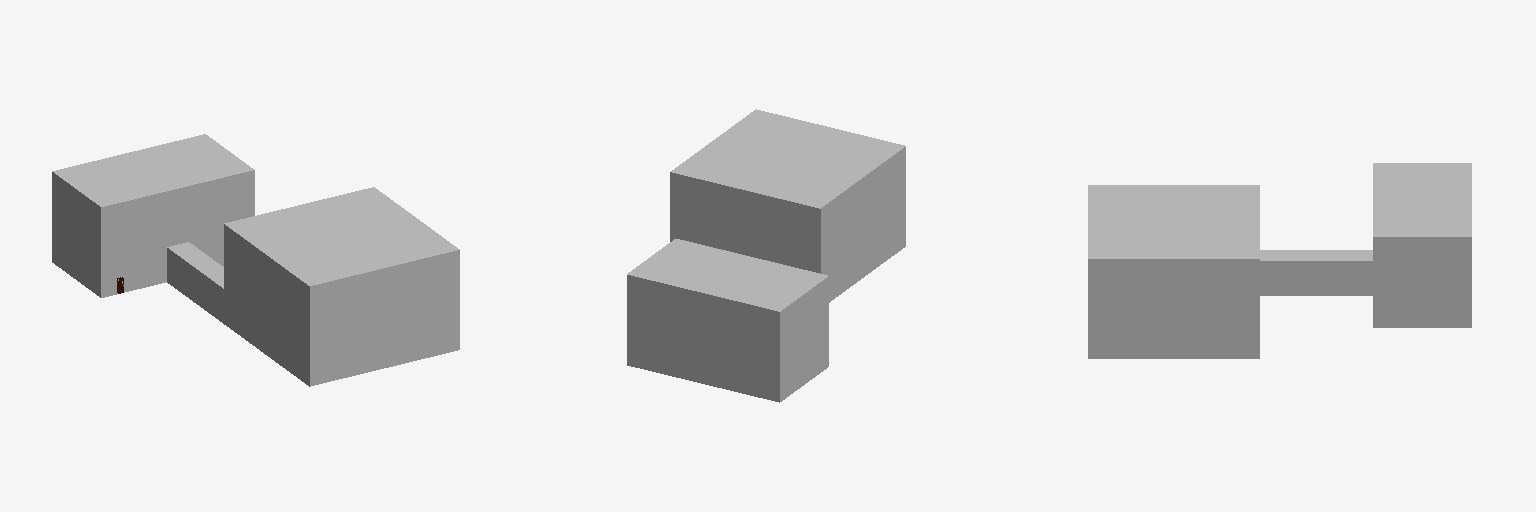
File: dummy_raum.obj
The picture shows the model from 3 angles: view 1: azimuth 30°, elevation 25°; view 2: azimuth 150°, elevation 25°; view 3: azimuth 270°, elevation 25°; orthographic projection.
Parts seen in each view (by area): view 1: Raum; view 2: Raum; view 3: Raum.
Boxes of the visible parts, box(x1,y1,x2,y2) form: Raum: box(52, 134, 459, 386); Raum: box(627, 109, 905, 402); Raum: box(1088, 163, 1471, 358).
Bounding box in the file's own units: 61.45 × 27.27 × 94.56.